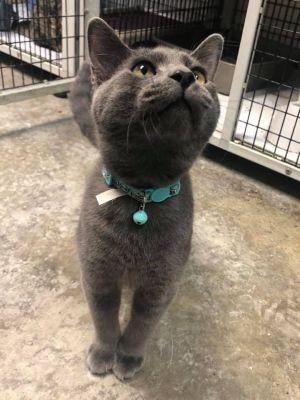rblue: (62, 1, 240, 188)
